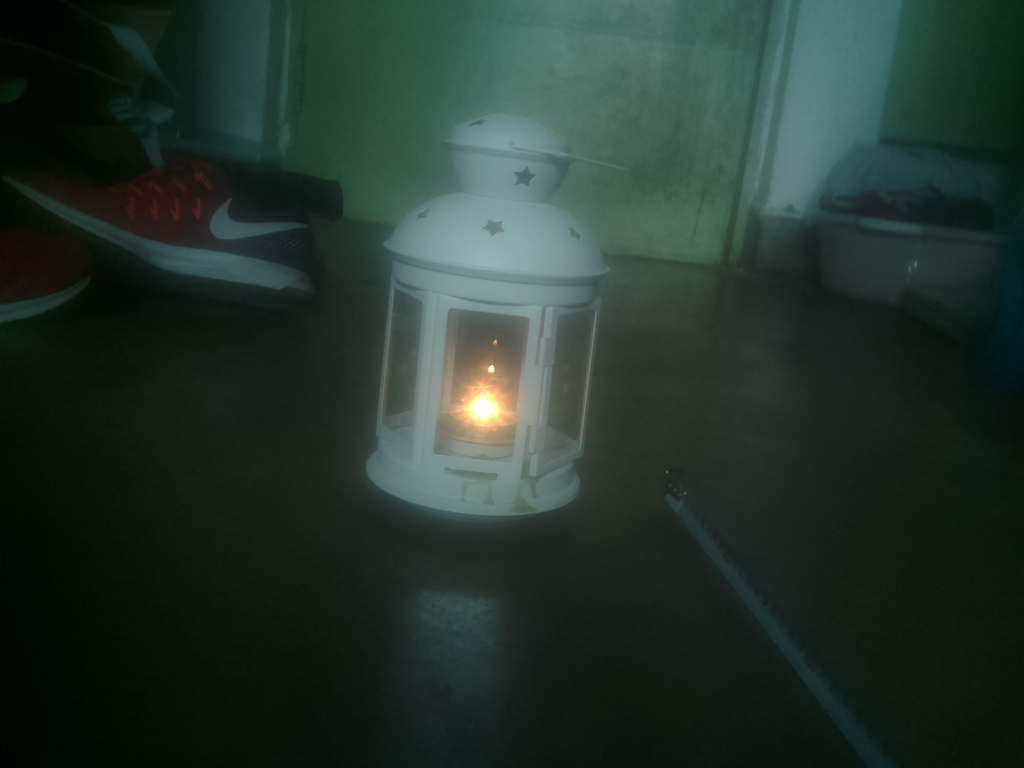fire: (425, 364, 544, 470)
